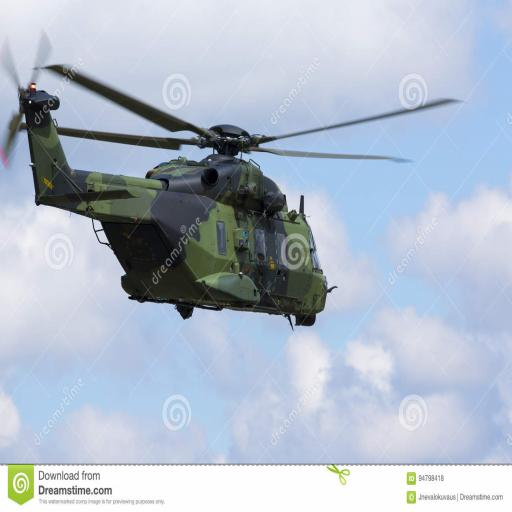helicopter: (1, 31, 468, 326)
